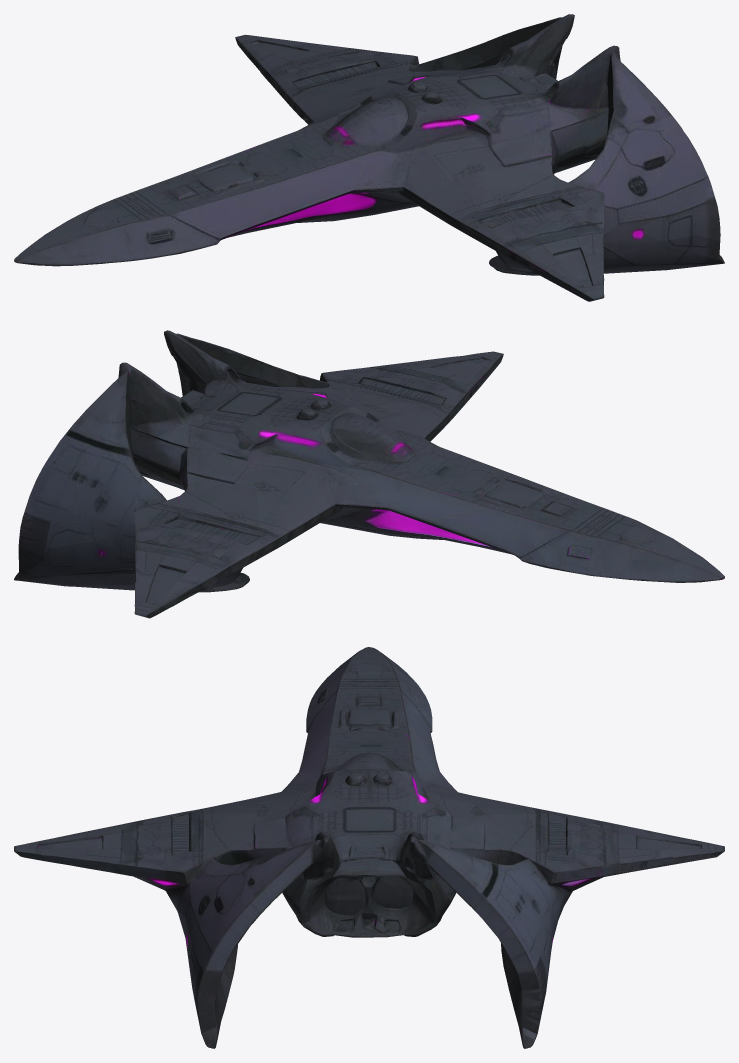
The model's file is enemy-vesper-fighter.glb.
3 renders of one model, top to bottom at view 1: azimuth 30°, elevation 25°; view 2: azimuth 150°, elevation 25°; view 3: azimuth 270°, elevation 25°, orthographic.
Size of the model in its own units: 1.9 by 0.5367 by 1.87.
Materials: 1 (1 with a texture image).
